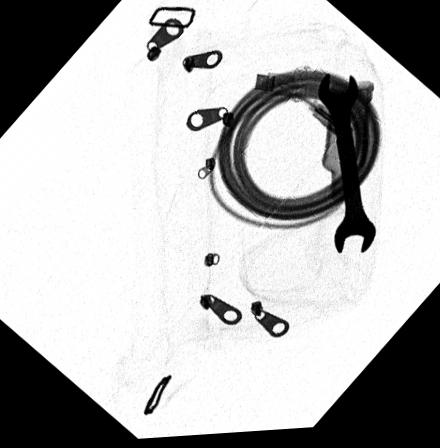Wrench: (317, 76, 376, 258)
